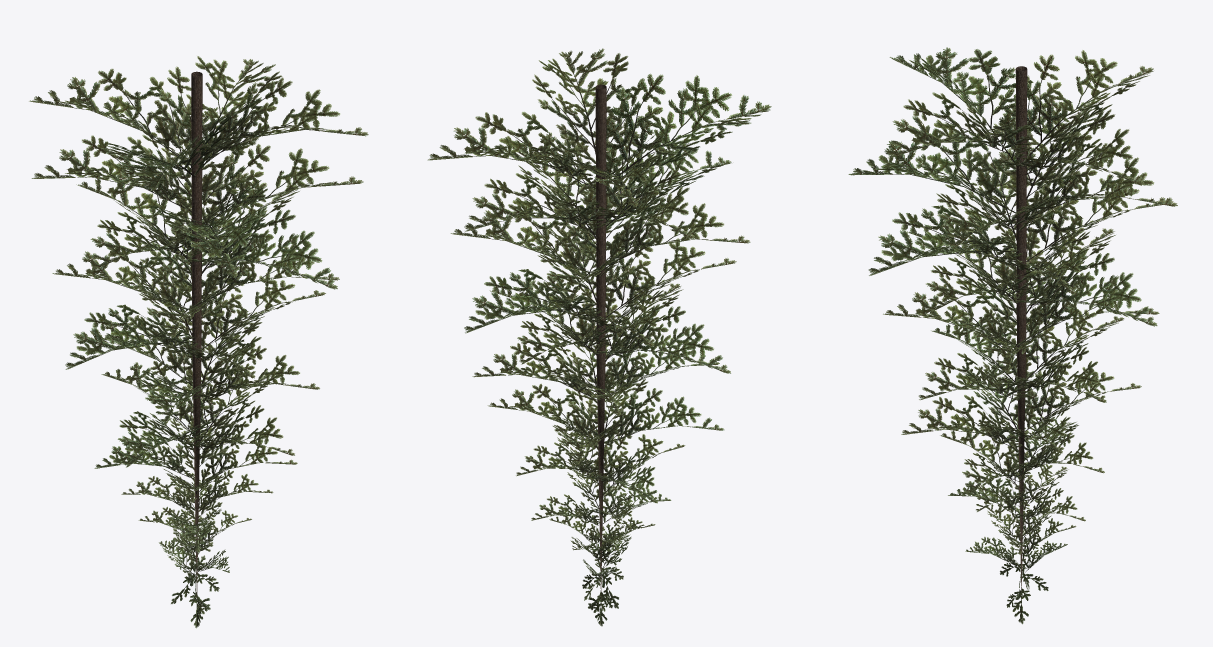
The model's file is Pine.fbx.
The picture shows the model from 3 angles, left to right: view 1: azimuth 30°, elevation 25°; view 2: azimuth 150°, elevation 25°; view 3: azimuth 270°, elevation 25°; orthographic projection. The views are drawn at different scales.
Parts seen in each view (by area): view 1: Pine; view 2: Pine; view 3: Pine.
Part boxes in pixels (x1,y1,x2,y2): Pine: (29, 56, 368, 628); Pine: (427, 48, 771, 626); Pine: (848, 47, 1177, 624).
Size of the model in its own units: 20.67 by 35.25 by 21.11.
